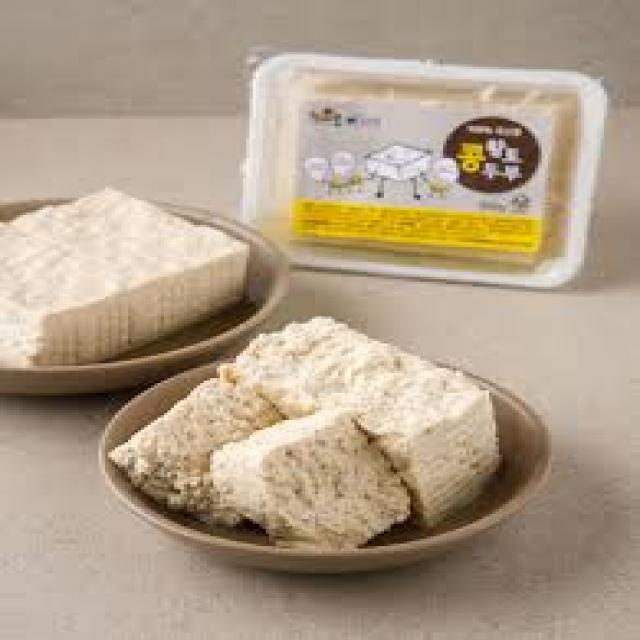tofu: (135, 313, 516, 575), (6, 185, 275, 377)
